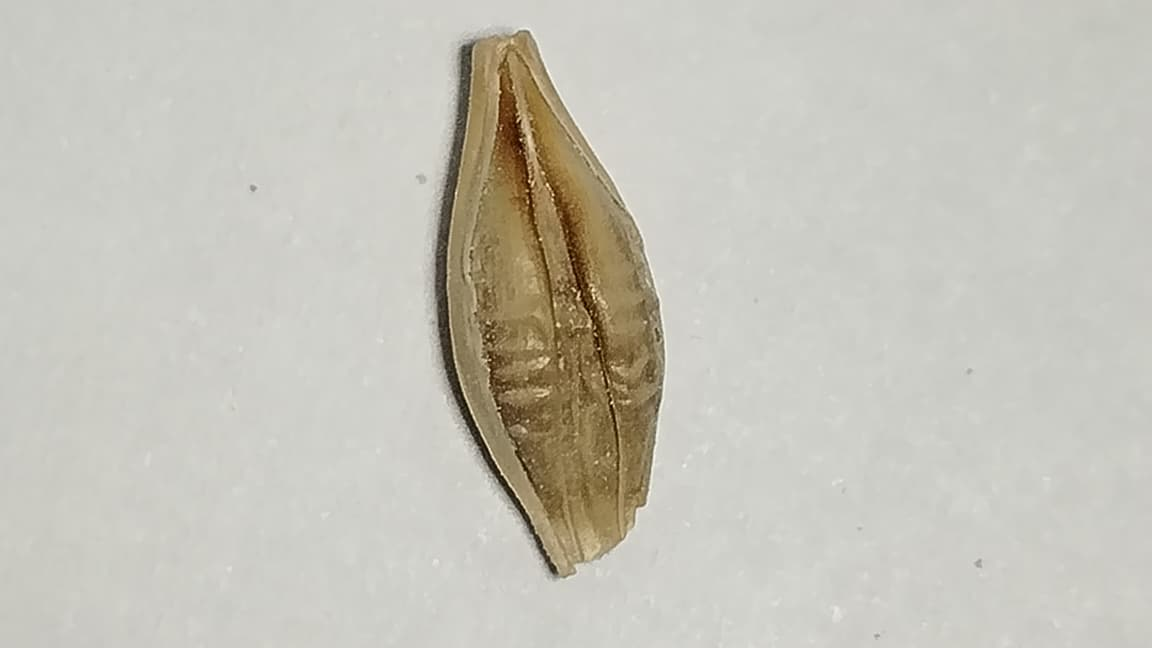healthy-50-40: (447, 31, 666, 576)
staindamage: (497, 84, 598, 327)
